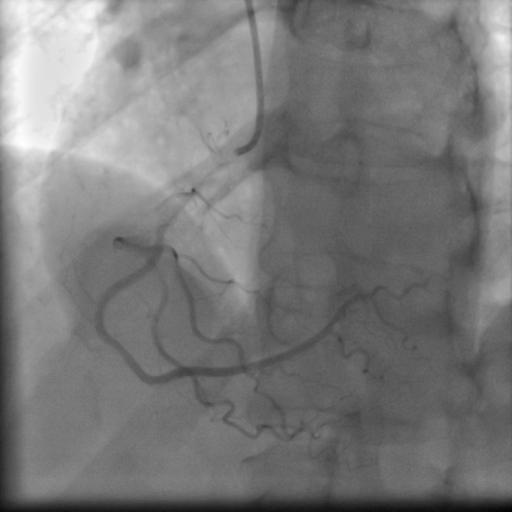Stenosis: (108, 329, 135, 367)
